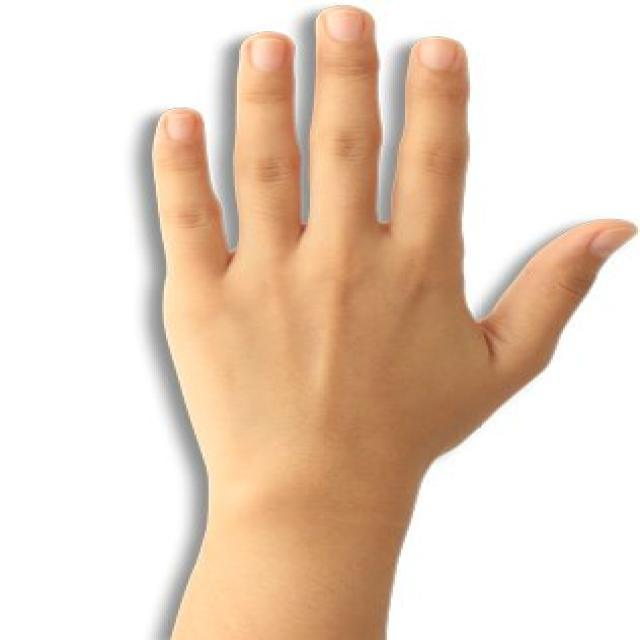Fingernail: (590, 228, 634, 262), (418, 38, 457, 73), (250, 38, 286, 75), (326, 8, 364, 42), (166, 115, 195, 142)
